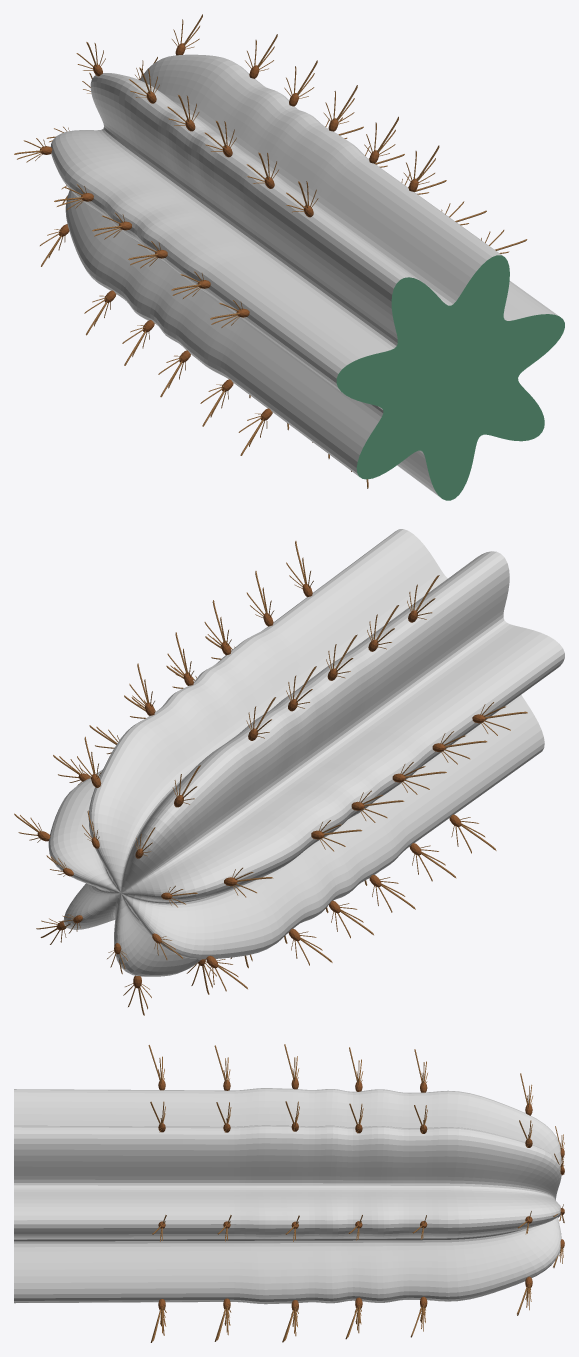
The model's file is frame-096.glb.
3 renders of one model, top to bottom at view 1: azimuth 30°, elevation 25°; view 2: azimuth 150°, elevation 25°; view 3: azimuth 270°, elevation 25°, orthographic. The views are drawn at different scales.
Visible parts, largest first — view 1: WACHUMA_Pachanoi_Frame_096; view 2: WACHUMA_Pachanoi_Frame_096; view 3: WACHUMA_Pachanoi_Frame_096.
Boxes of the visible parts, x1,y1,x2,y2 form: WACHUMA_Pachanoi_Frame_096: (14, 14, 564, 500); WACHUMA_Pachanoi_Frame_096: (14, 529, 564, 1015); WACHUMA_Pachanoi_Frame_096: (14, 1044, 564, 1342).
Size of the model in its own units: 1.19 by 1.16 by 2.15.
